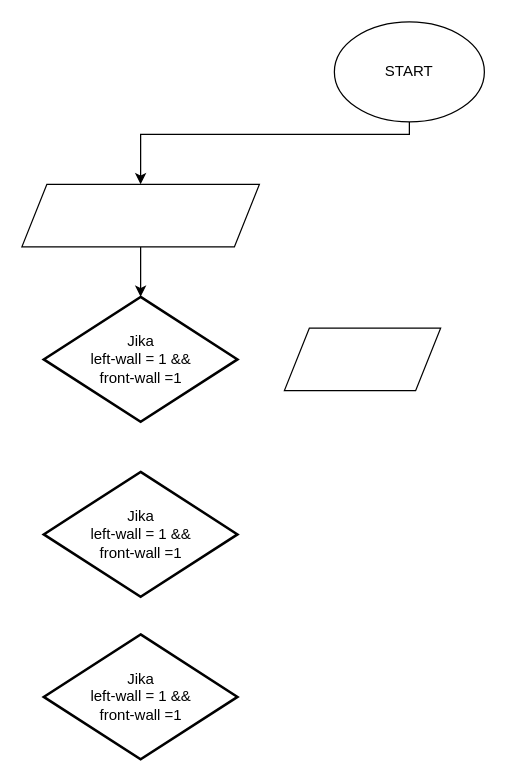
Image size: 506x783. Some labels were removed from this diagram. The box of each missing label's shape, as (x1, y1, x2, y2) in pixels:
Move Forward: (283, 327, 441, 391)
WALL: (21, 183, 259, 247)
